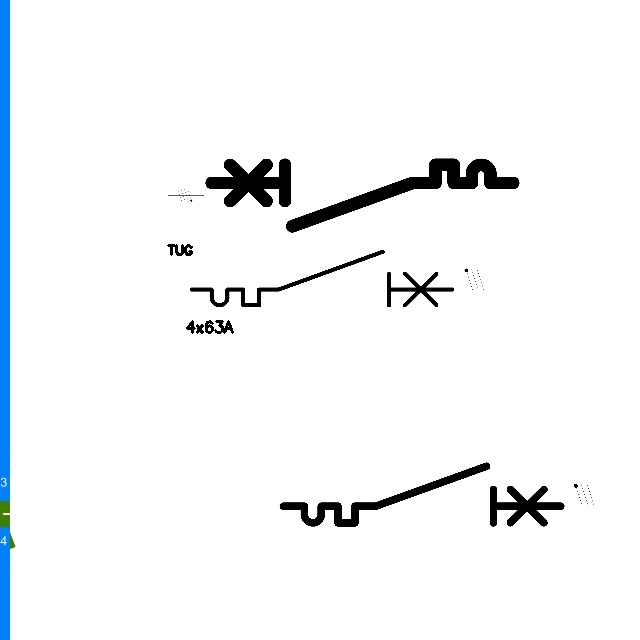interruptor_termomagnetico: (203, 157, 520, 234), (276, 459, 568, 530), (185, 245, 459, 312)
